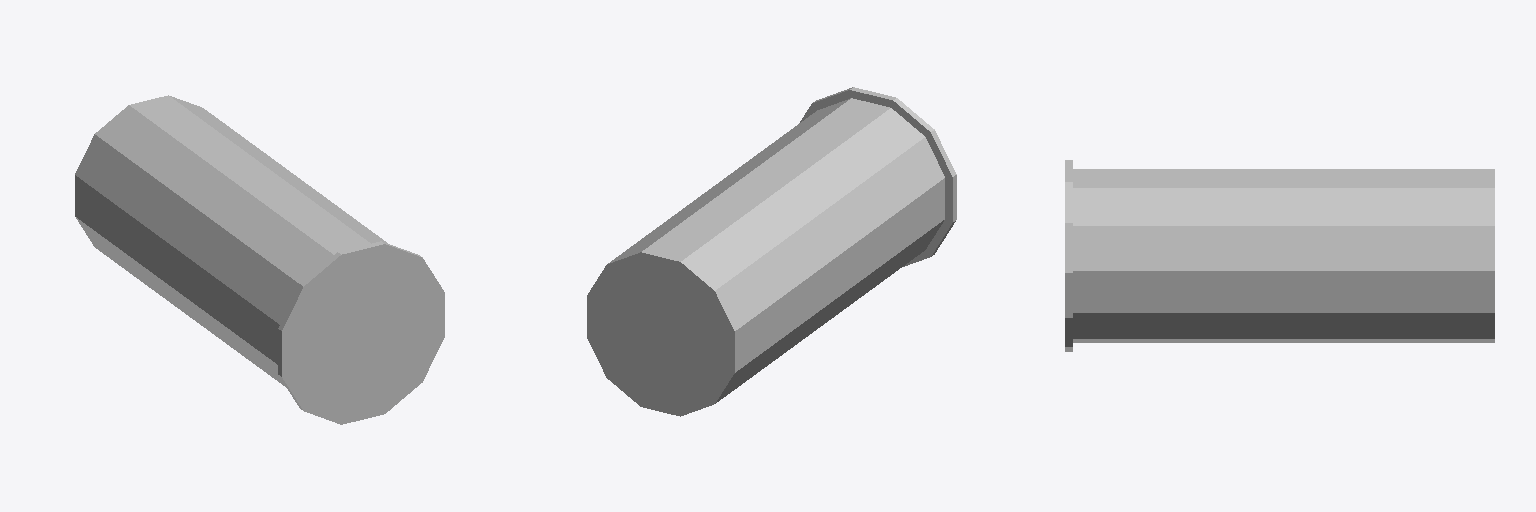
Rendered from shotgun_round.obj.
3 renders of one model, left to right at view 1: azimuth 30°, elevation 25°; view 2: azimuth 150°, elevation 25°; view 3: azimuth 270°, elevation 25°, orthographic.
Parts seen in each view (by area): view 1: Shell; view 2: Shell; view 3: Shell.
Part boxes in pixels (x1,y1,x2,y2): Shell: (75,95,444,424); Shell: (587,87,956,416); Shell: (1065,160,1494,351).
Bounding box in the file's own units: 0.0489 × 0.0489 × 0.1117.